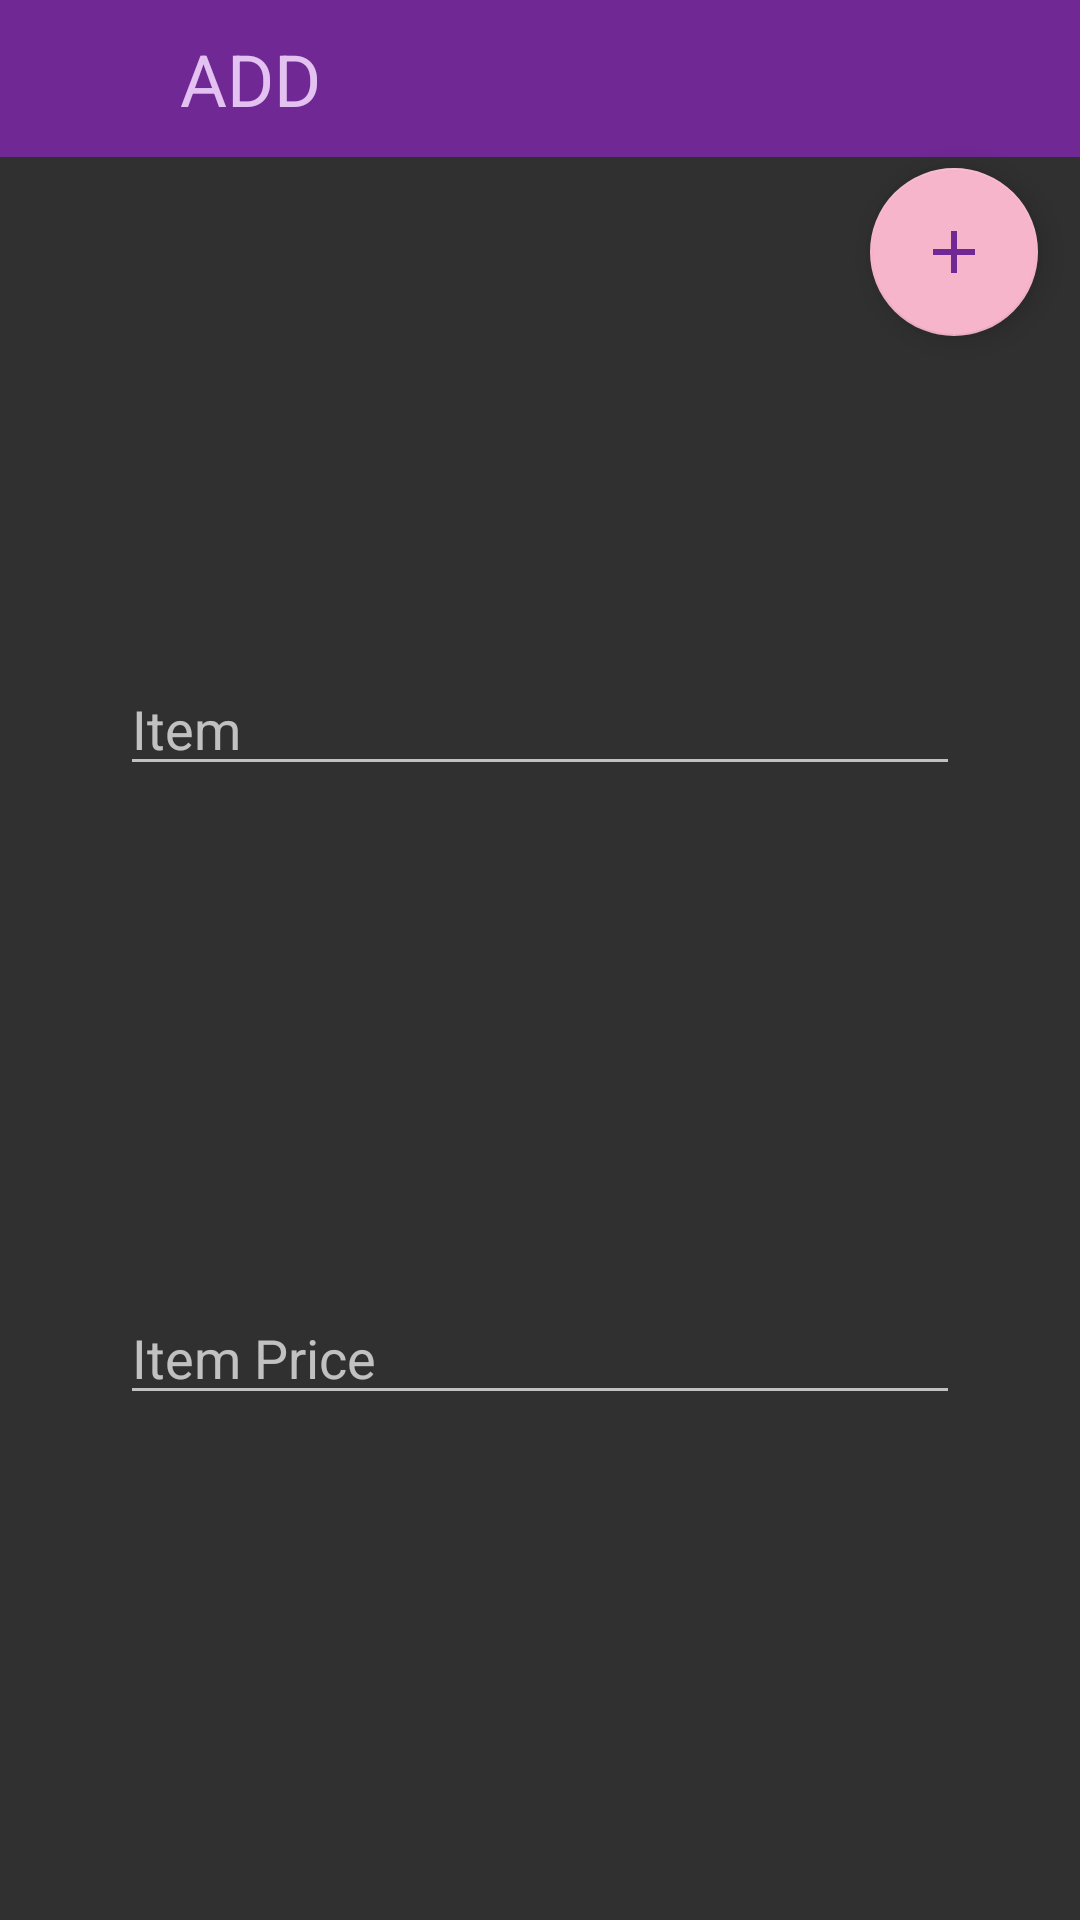

Screen size 1080×1920. Icon name, then its center in pixels as [x,y]:
add float: [954,252]
